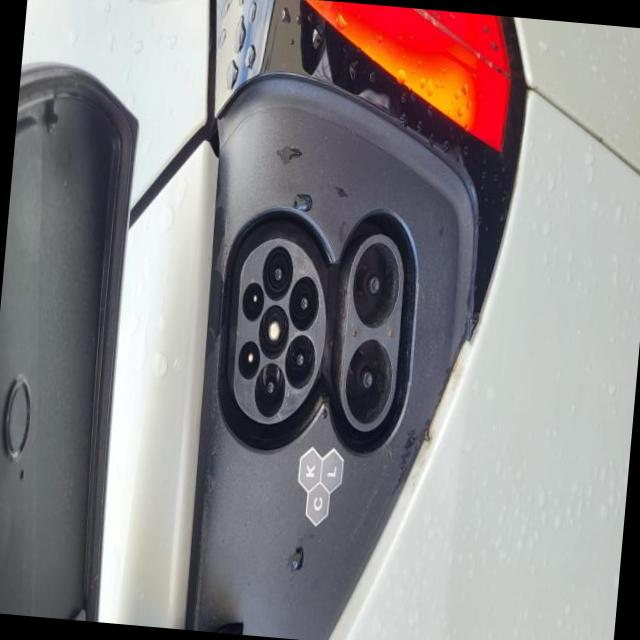inlet: (233, 237, 326, 423)
inlet-above-left: (237, 340, 260, 378)
inlet-above-right: (242, 282, 263, 320)
inlet-below-left: (284, 334, 315, 387)
inlet-below-right: (288, 275, 320, 330)
inlet-center: (258, 303, 289, 358)
inlet-center-left: (254, 361, 285, 416)
inlet-center-right: (262, 244, 293, 300)
